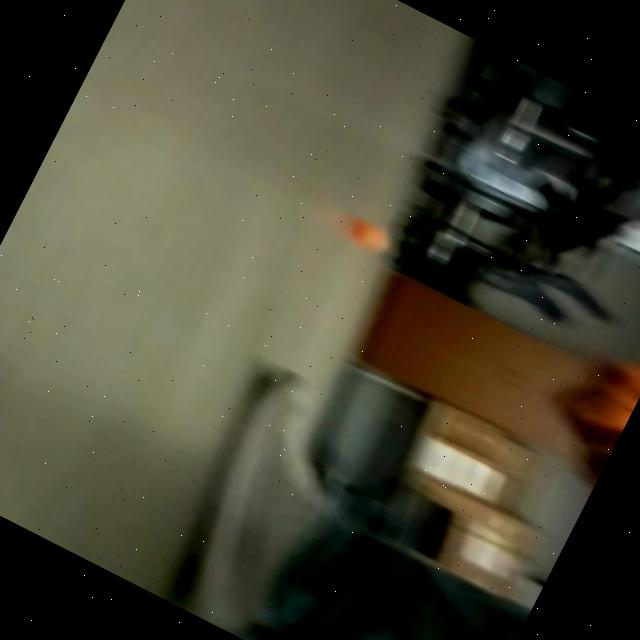ping-pong-ball: (332, 202, 408, 270), (590, 349, 640, 421)
